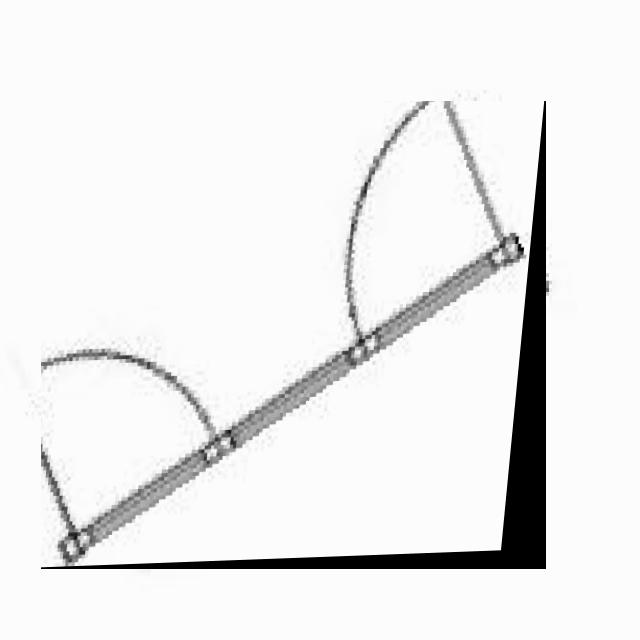door: (41, 101, 546, 569)
